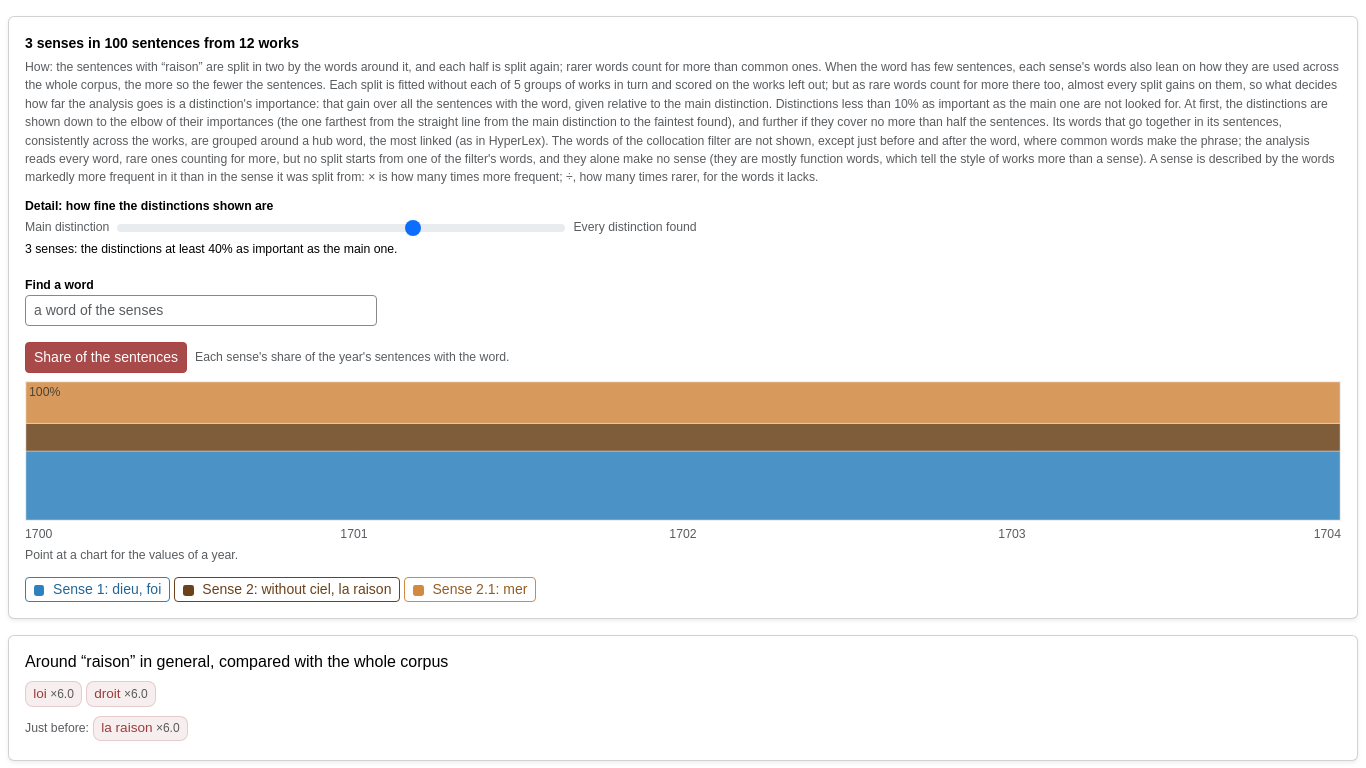
Test: WordSenses › finds a word among the senses, at the detail shown or another
Type "vague" into the search field with id "word-senses-find".
click(201, 310); type("vague")  # box top-left (25, 295), bottom-right (377, 326)
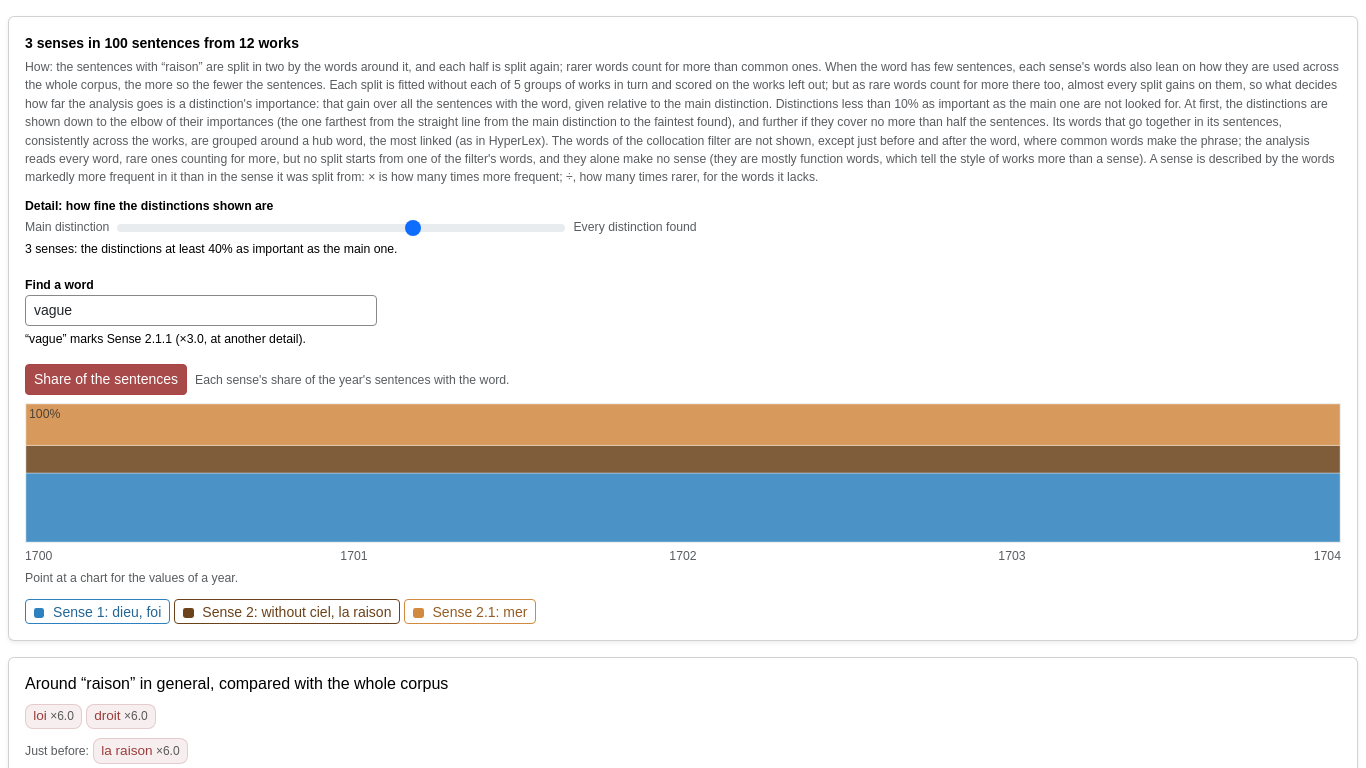
Expected: the text "“vague” marks Sense 2.1.1 (×3.0, at another detail)." is shown, top-left (25, 332), bottom-right (306, 346)
Replace the text in the search field with id "word-senses-find" with "ciel" at point(201, 310), box top-left (25, 295), bottom-right (377, 326)
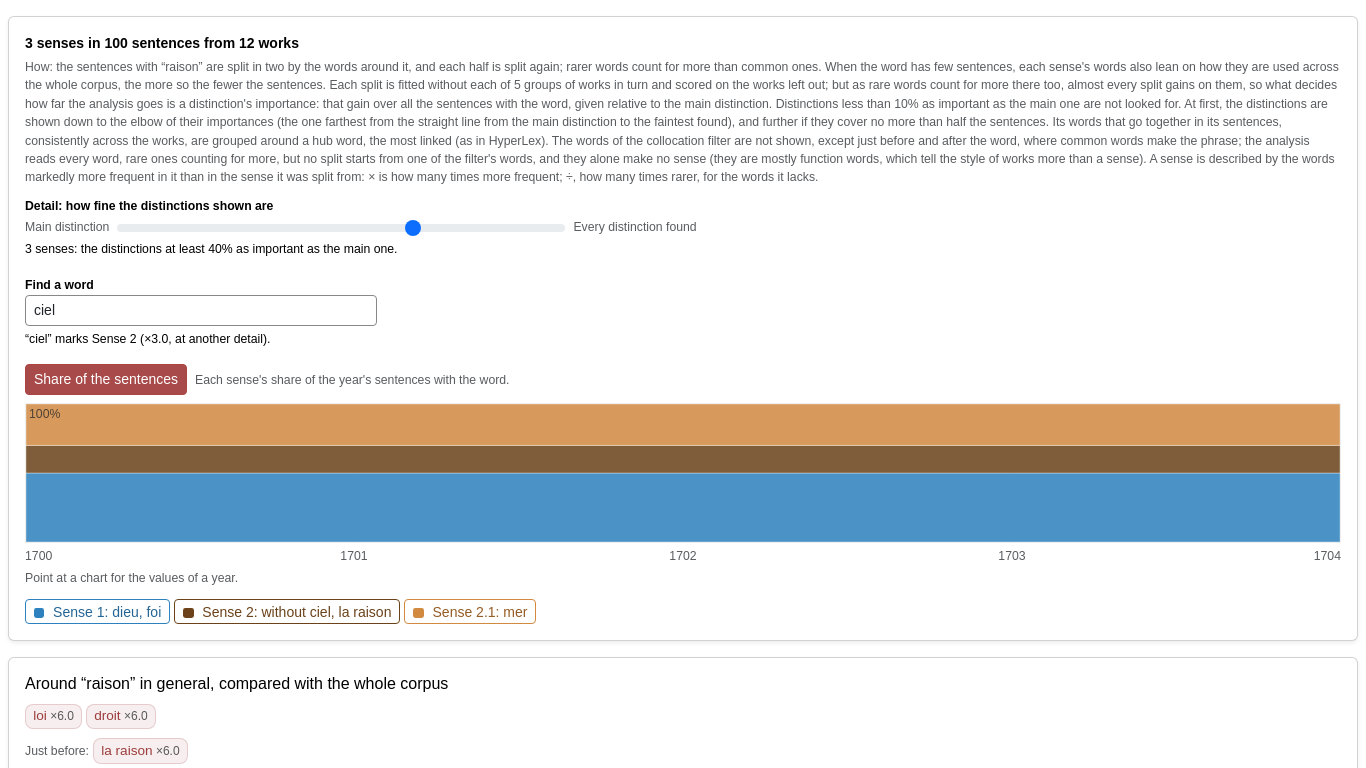
Expected: the text "“ciel” marks Sense 2 (×3.0, at another detail)." is shown, top-left (25, 332), bottom-right (270, 346)
Replace the text in the search field with id "word-senses-find" with "foi" at point(201, 310), box top-left (25, 295), bottom-right (377, 326)
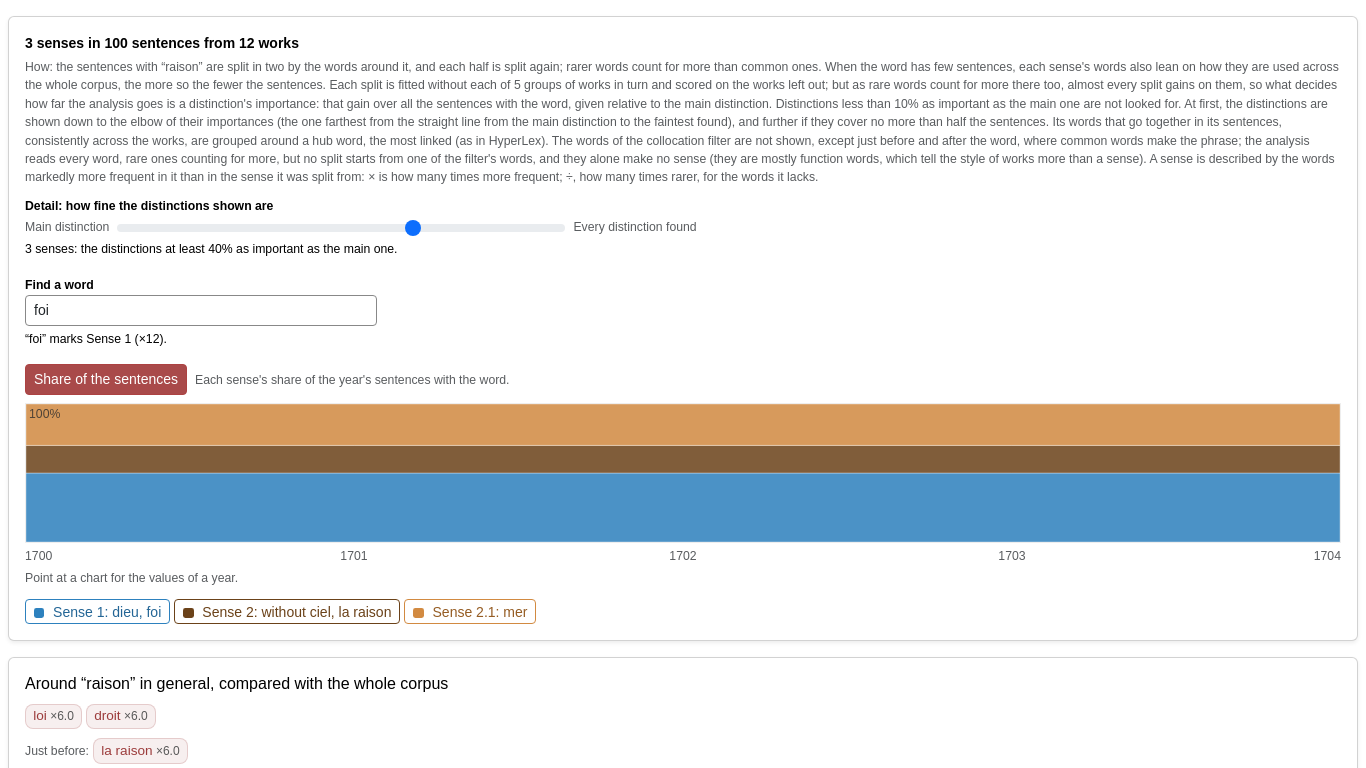
Replace the text in the search field with id "word-senses-find" with "nulle" at point(201, 310), box top-left (25, 295), bottom-right (377, 326)
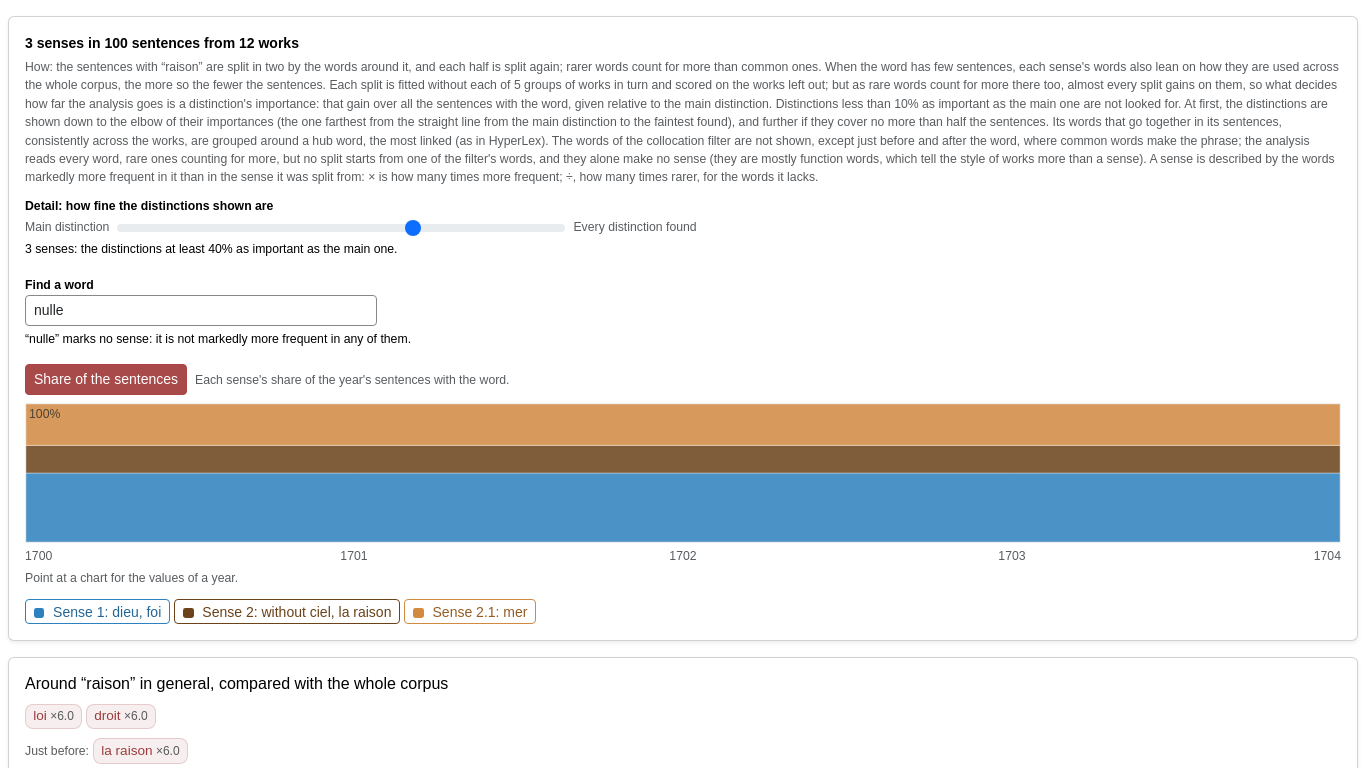
Expected: the text "“nulle” marks no sense" is shown, top-left (25, 332), bottom-right (411, 346)
